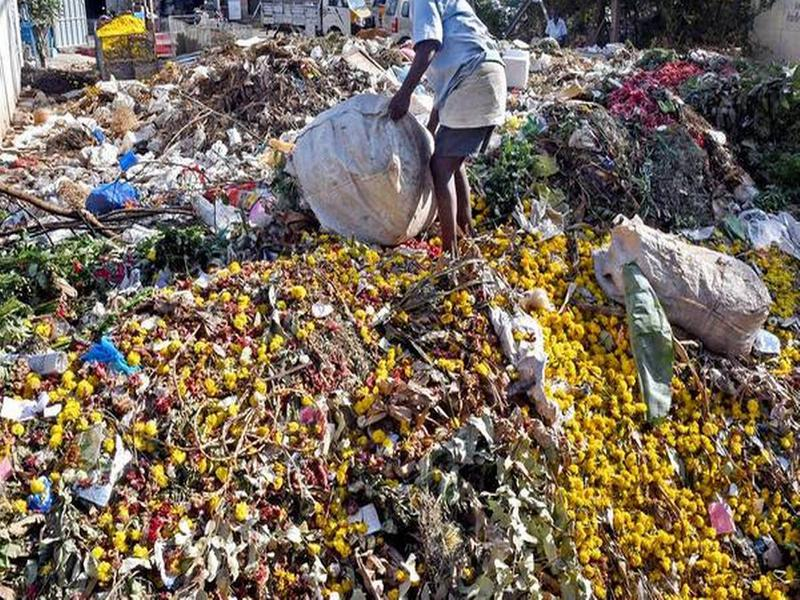flowers: (1, 238, 800, 600)
